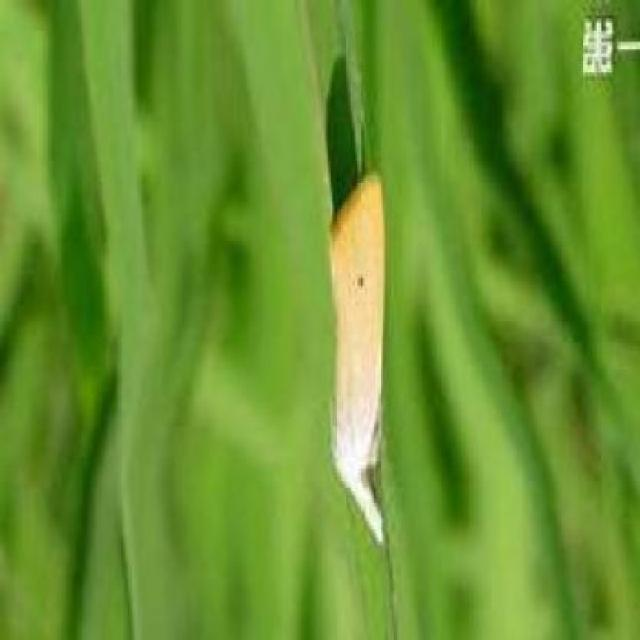stem-borer: (328, 165, 387, 547)
